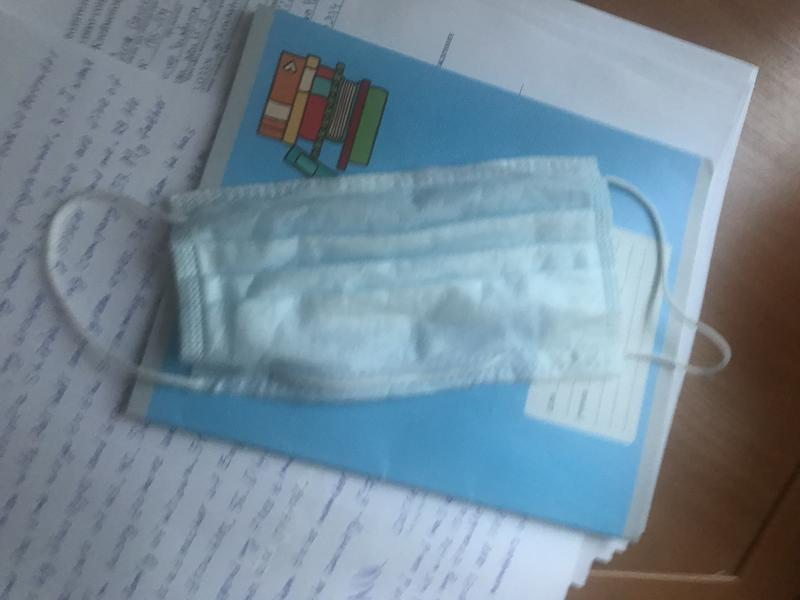medical_mask: (43, 156, 732, 395)
